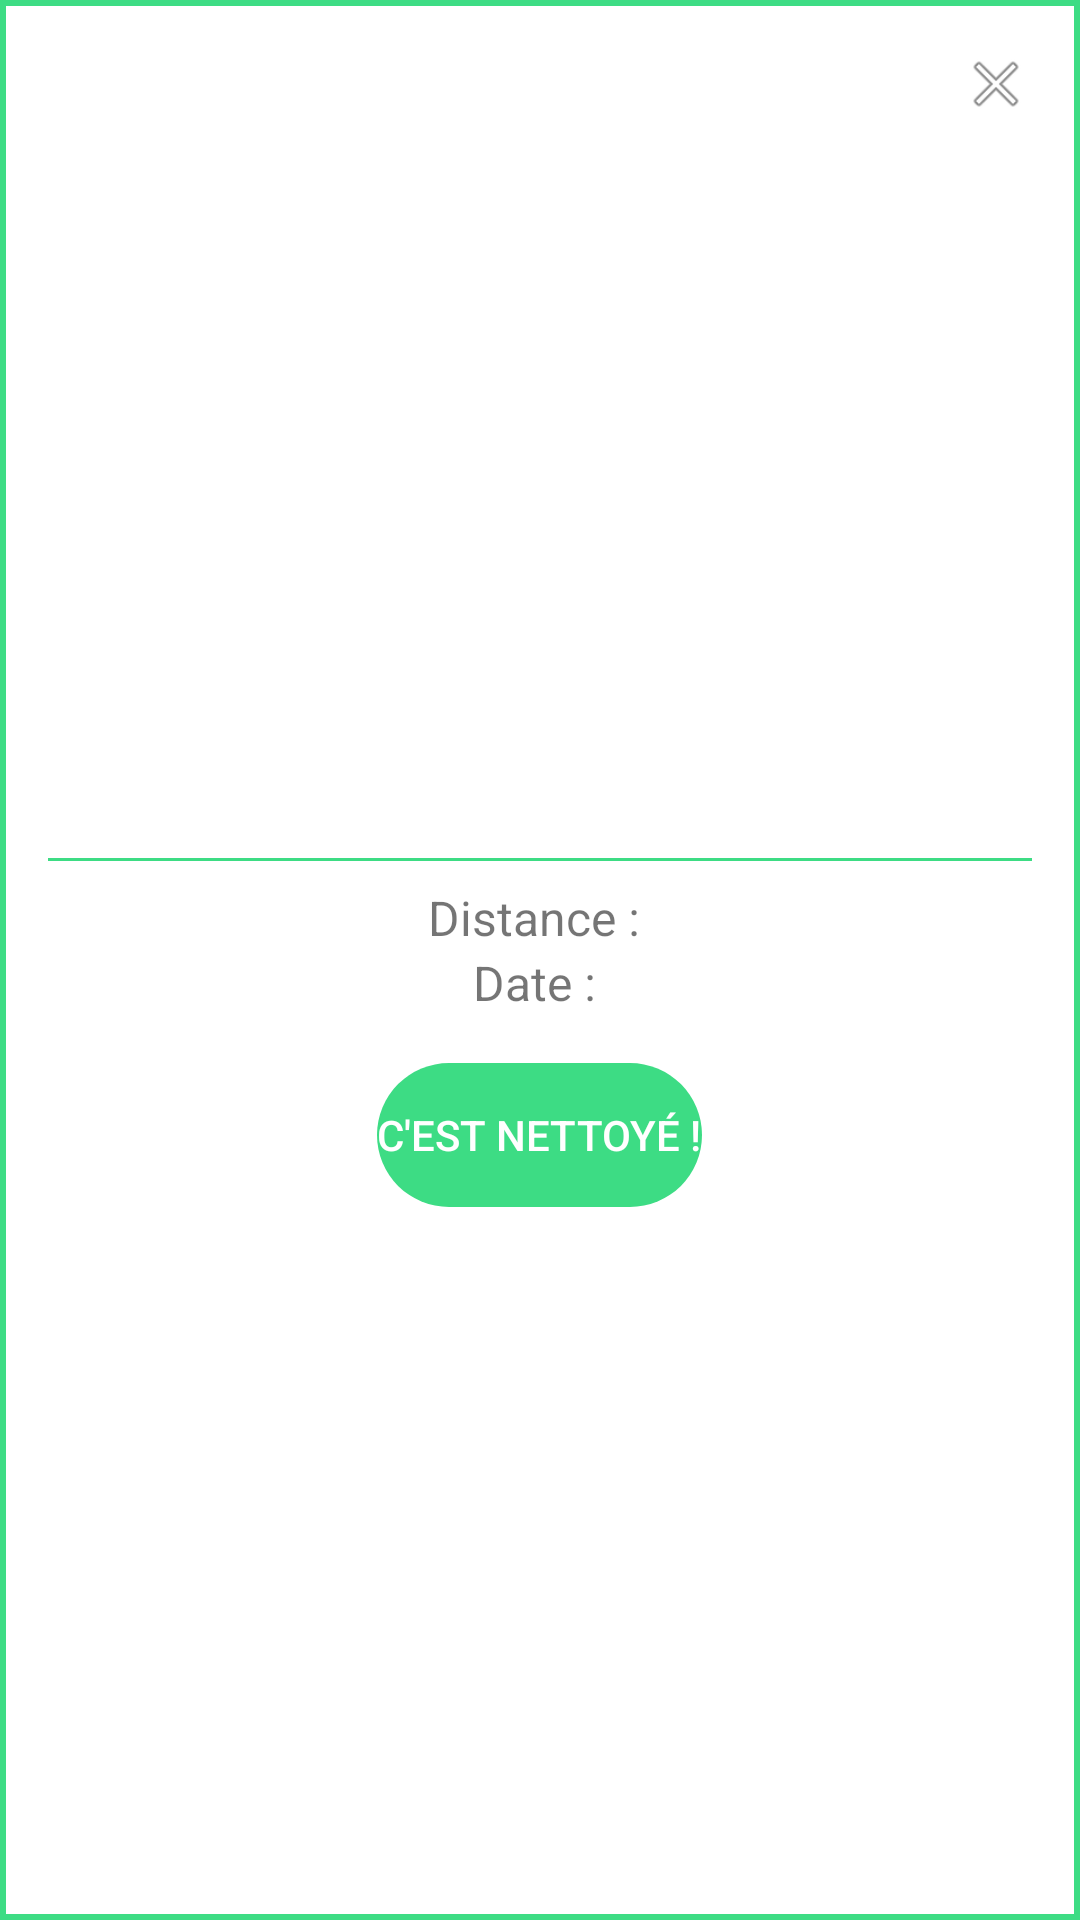

Screen size 1080w x 1920h. Icon name, then its box in pixels as (x1,y1,x2,y2):
close clear cancel: (973,61,1019,107)
